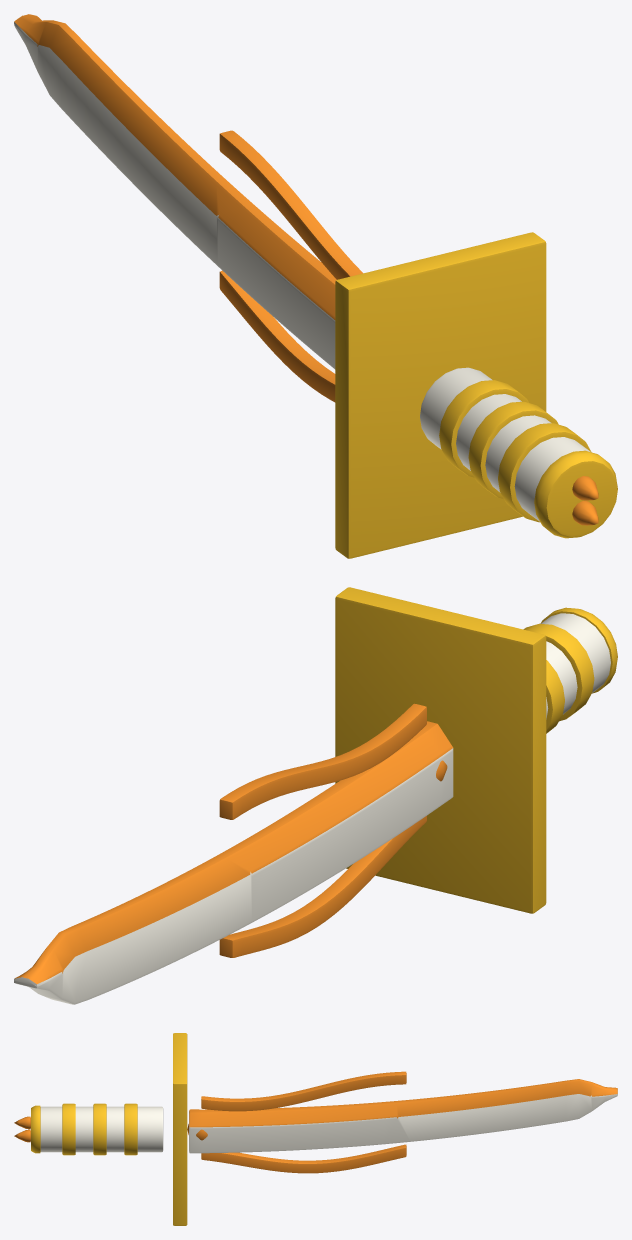
Rendered from Sword_HighwindNodachi.glb.
3 views of the same model, one above another, from view 1: azimuth 30°, elevation 25°; view 2: azimuth 150°, elevation 25°; view 3: azimuth 270°, elevation 25° (orthographic). The views are drawn at different scales.
Visible parts, largest first — view 1: Sword_HighwindNodachi; view 2: Sword_HighwindNodachi; view 3: Sword_HighwindNodachi.
Part boxes in pixels (box(x1,y1,x2,y2)): Sword_HighwindNodachi: box(14, 14, 617, 558); Sword_HighwindNodachi: box(14, 587, 617, 1004); Sword_HighwindNodachi: box(14, 1033, 617, 1225).
Bounding box in the file's own units: 0.2 × 0.26 × 1.
1 material, 1 textured.
